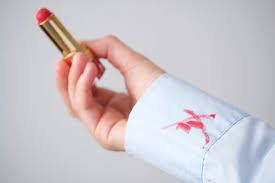kimchi: (173, 107, 219, 143), (156, 117, 205, 137), (178, 117, 205, 134)
